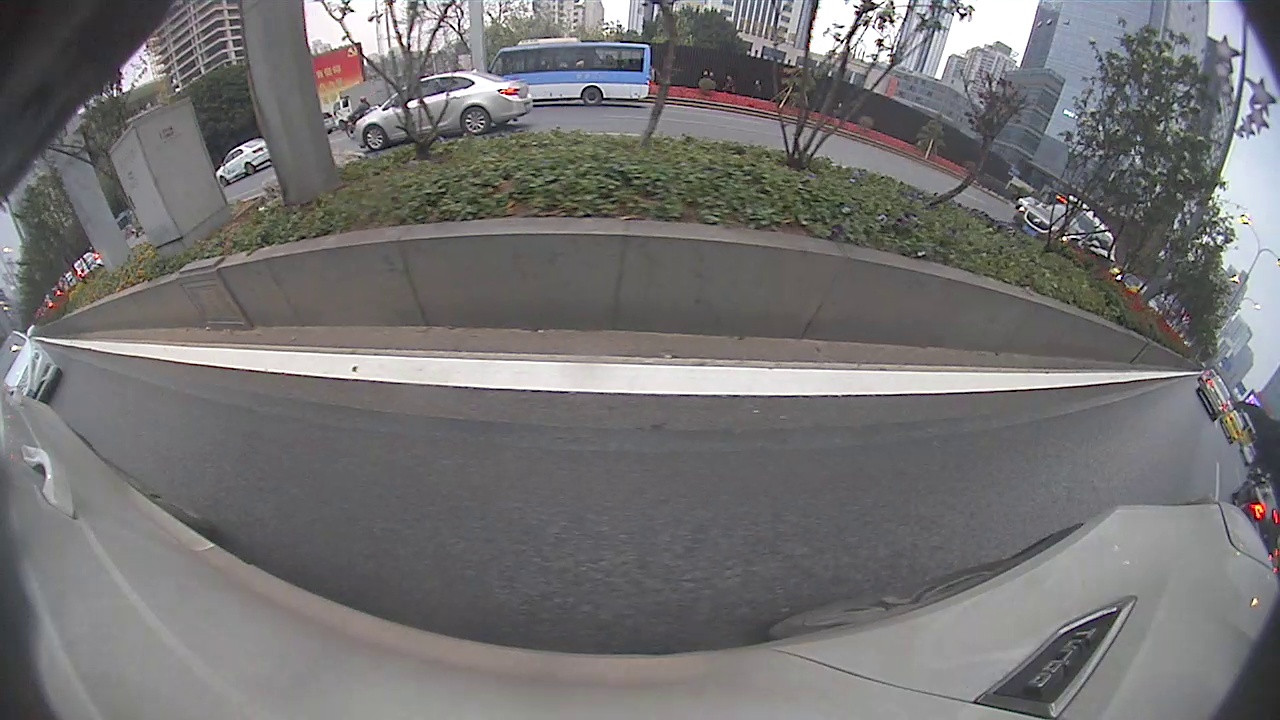car: (353, 69, 532, 152), (2, 321, 63, 407), (213, 140, 273, 188), (1197, 374, 1233, 423)
front: (362, 124, 389, 151), (219, 176, 230, 188)
rear: (459, 104, 490, 137), (580, 85, 603, 109), (243, 162, 256, 176)
